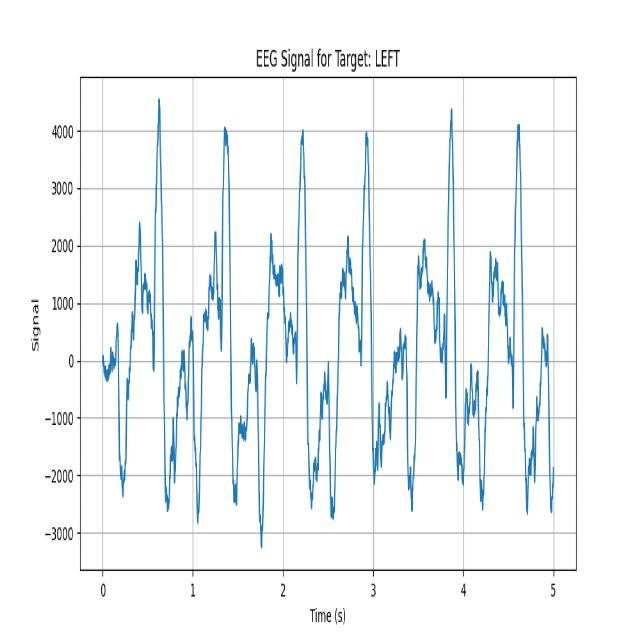LEFT: (184, 91, 274, 551), (349, 82, 432, 557), (272, 86, 349, 553), (105, 94, 186, 527), (432, 82, 501, 543), (499, 82, 557, 560)
